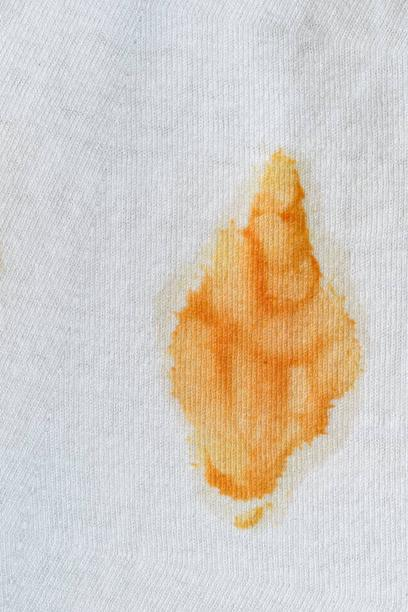stain: (161, 141, 377, 542)
